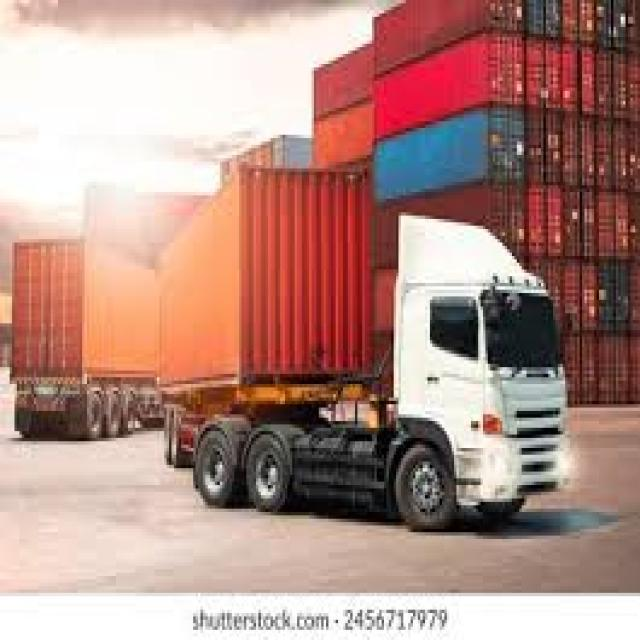covered: (154, 141, 570, 529), (8, 239, 168, 436)
